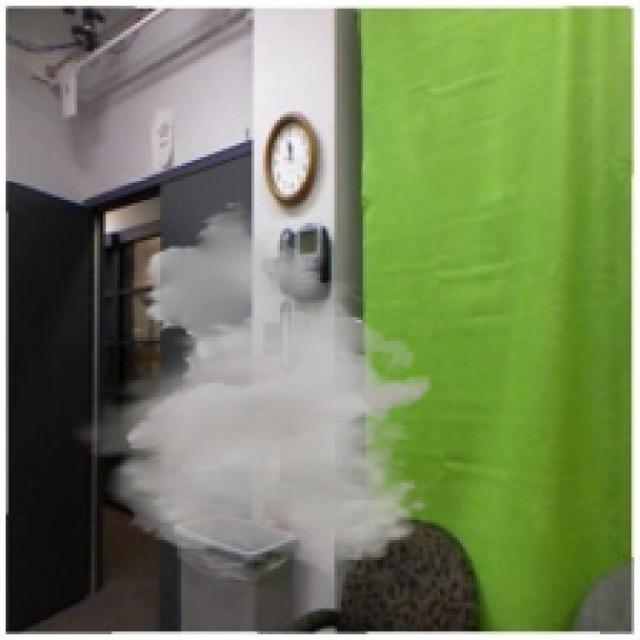smoke: (66, 200, 434, 563)
